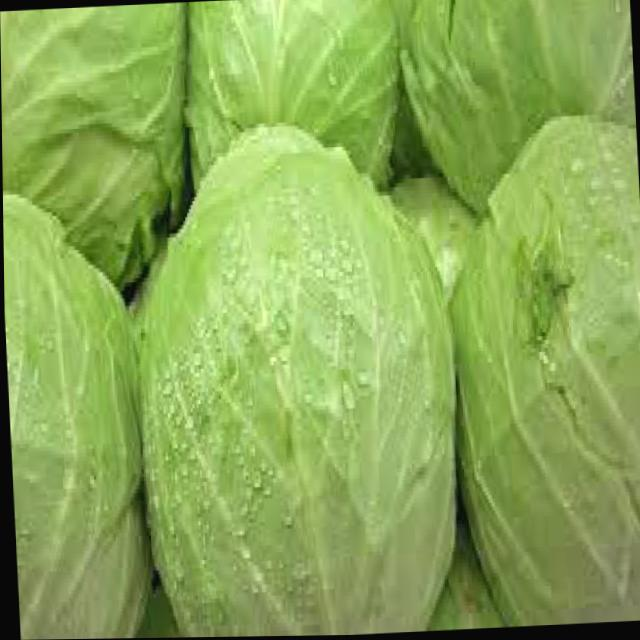Cabbage: (123, 110, 463, 639), (440, 114, 640, 630), (2, 183, 149, 640), (0, 7, 196, 285), (396, 0, 629, 221), (182, 0, 405, 202)
